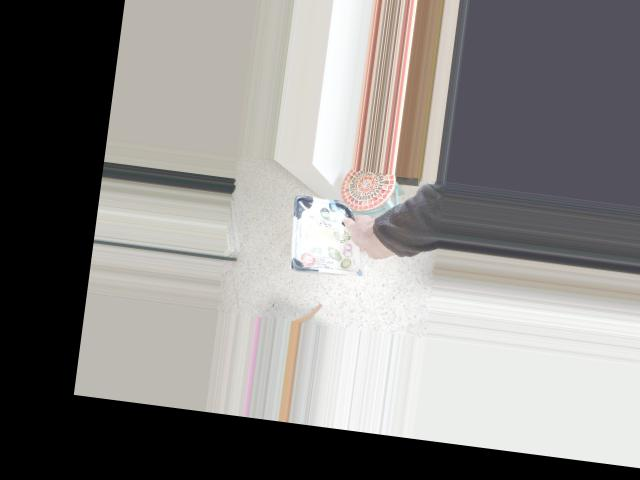cheese: (288, 185, 395, 291)
